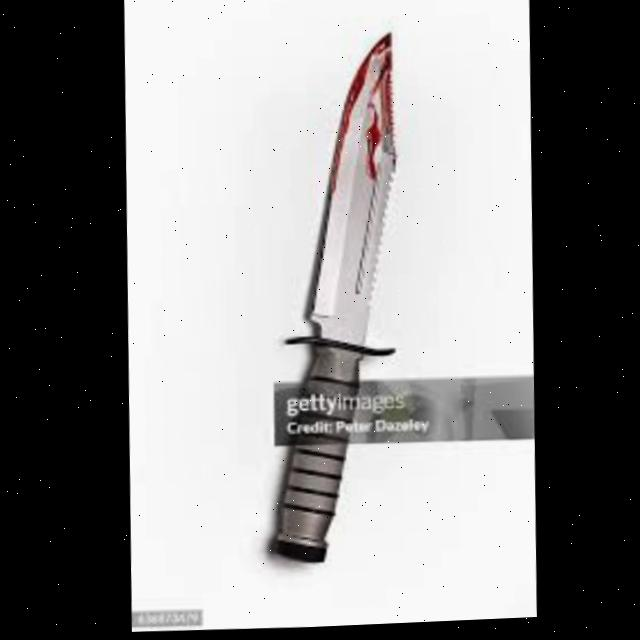Knife: (254, 32, 406, 566)
